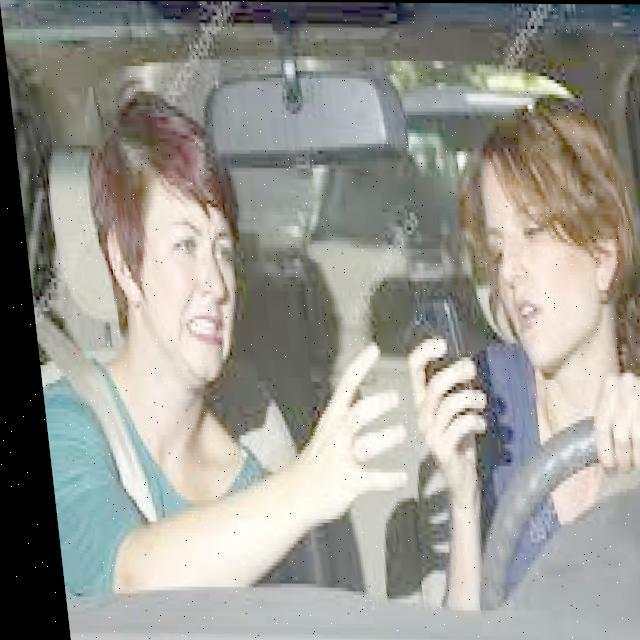seatbelt: (28, 324, 220, 556)
